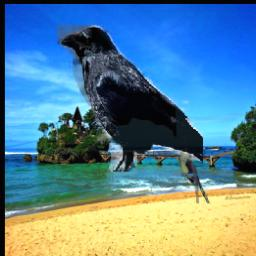Crow: (58, 25, 204, 172)
Cuckoo: (178, 146, 211, 203)
